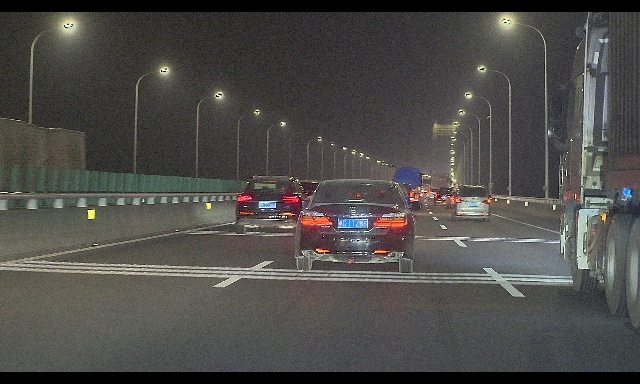car: (294, 179, 422, 273), (235, 175, 313, 234), (287, 179, 336, 224), (452, 184, 492, 222), (382, 182, 412, 214), (445, 190, 468, 209), (434, 190, 453, 206), (428, 190, 441, 200)
truck: (547, 12, 640, 330), (0, 117, 87, 193), (391, 168, 423, 209), (430, 169, 448, 196), (419, 179, 433, 197)
